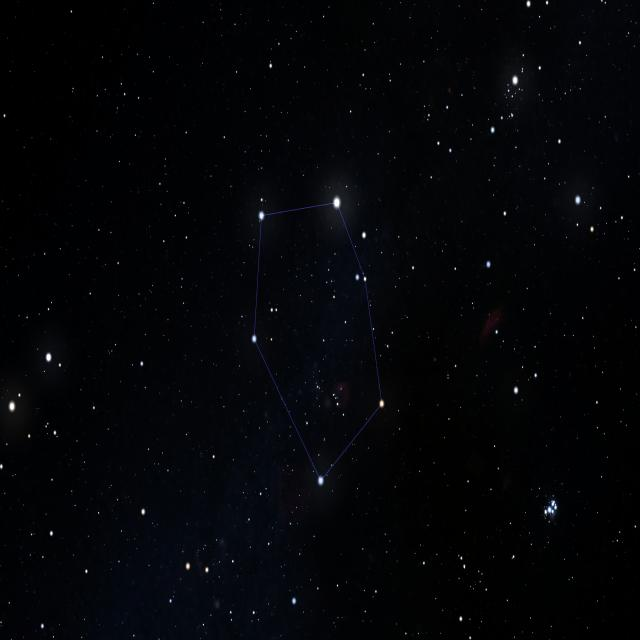Centaurus: (237, 190, 401, 498)
